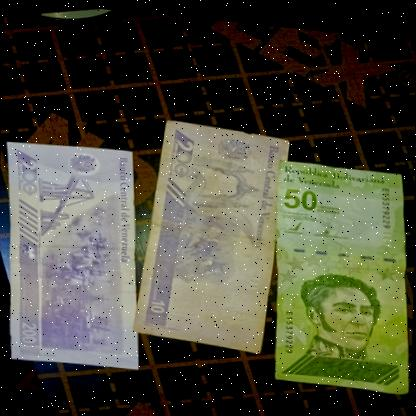fifty-front-vef: (271, 154, 415, 387)
ten-back-vef: (132, 114, 291, 351)
two_hundred-back-vef: (0, 136, 144, 368)
